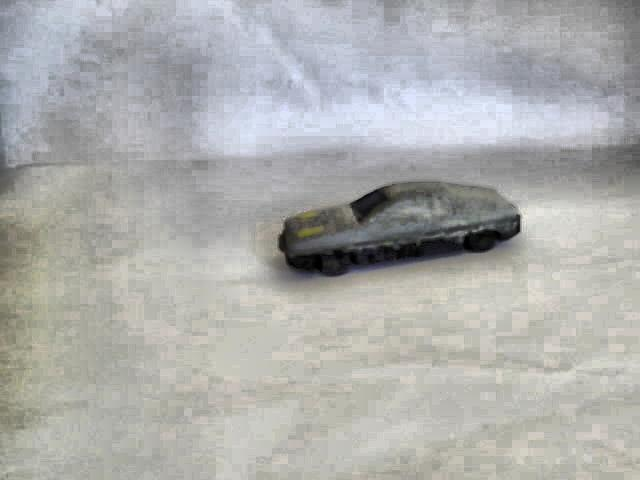normal_car: (274, 176, 525, 280)
